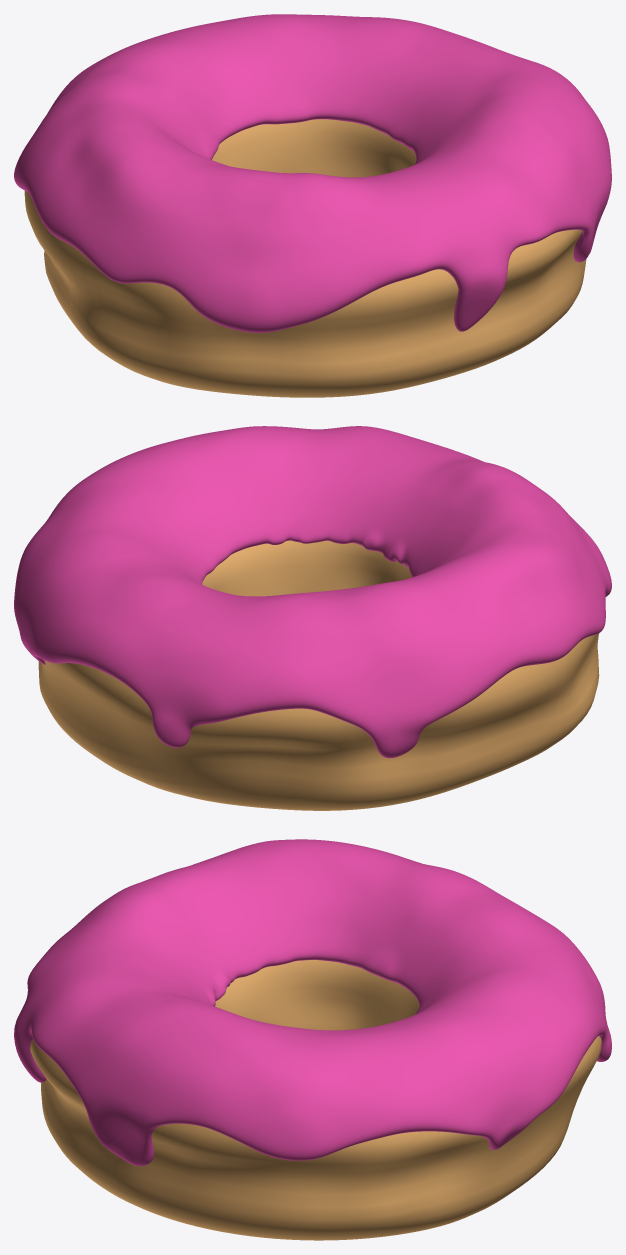
The model's file is donut.fbx.
3 renders of one model, top to bottom at view 1: azimuth 30°, elevation 25°; view 2: azimuth 150°, elevation 25°; view 3: azimuth 270°, elevation 25°, orthographic.
Parts seen in each view (by area): view 1: Icing, Donut; view 2: Icing, Donut; view 3: Icing, Donut.
Boxes of the visible parts, x1,y1,x2,y2 form: Icing: [14, 14, 611, 332]; Donut: [24, 119, 586, 397]; Icing: [14, 426, 611, 758]; Donut: [38, 540, 599, 810]; Icing: [14, 839, 611, 1166]; Donut: [30, 960, 601, 1240].
Size of what is drawn, in the model's own units: 23.36 by 9.42 by 23.3.
